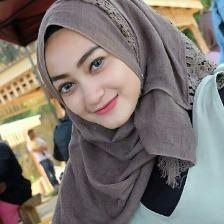Non Syar-i: (33, 0, 219, 222)
